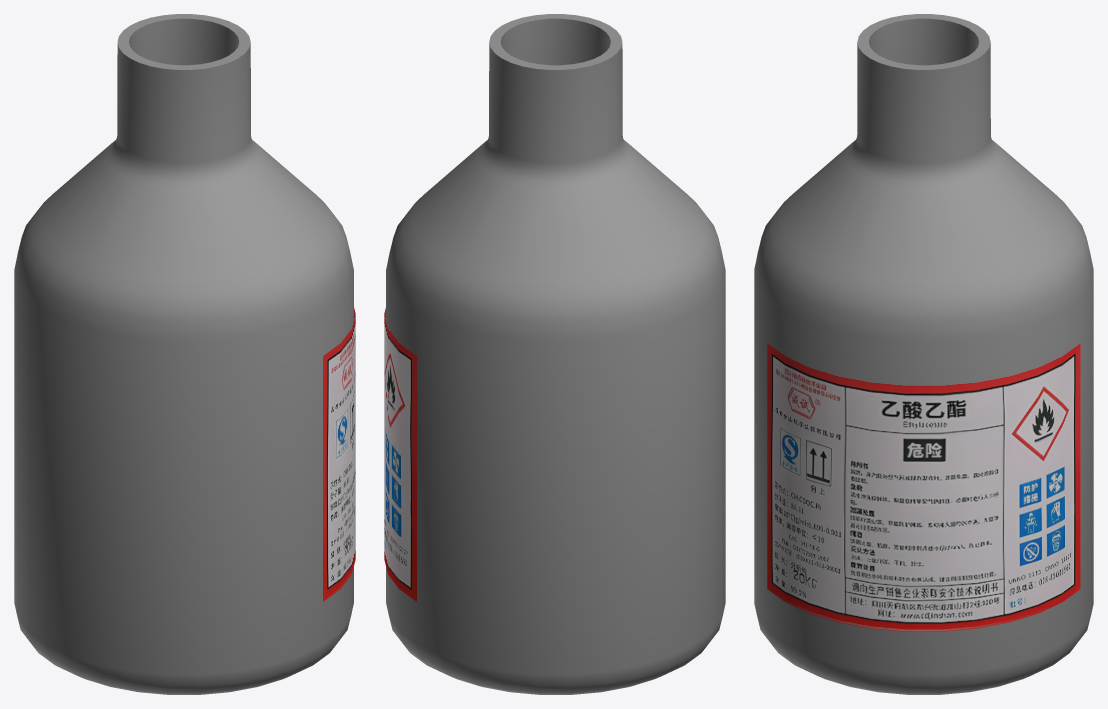
File: SM_乙酸乙酯.fbx
3 views of the same model, side by side, from view 1: azimuth 30°, elevation 25°; view 2: azimuth 150°, elevation 25°; view 3: azimuth 270°, elevation 25° (orthographic).
Parts seen in each view (by area): view 1: SM_乙酸乙酯; view 2: SM_乙酸乙酯; view 3: SM_乙酸乙酯.
Boxes of the visible parts, left/top/right/bottom form: SM_乙酸乙酯: left=14, top=14, right=355, bottom=694; SM_乙酸乙酯: left=384, top=14, right=725, bottom=694; SM_乙酸乙酯: left=754, top=14, right=1093, bottom=694.
Size of the model in its own units: 59.45 by 115 by 59.47.
